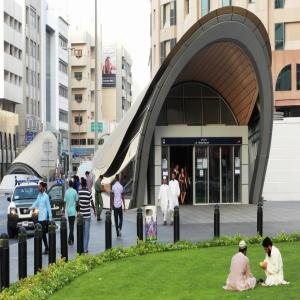Vehicle-registration-plate: (24, 222, 30, 228)
